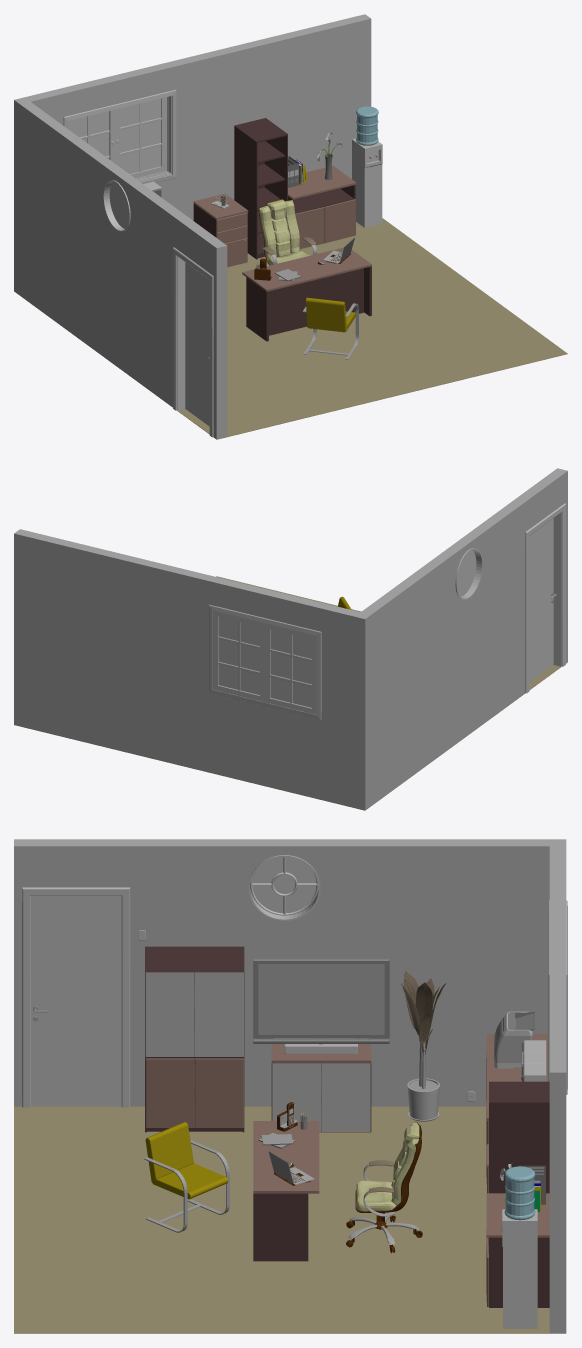
The model's file is oficina_texture_demo.glb.
3 views of the same model, one above another, from view 1: azimuth 30°, elevation 25°; view 2: azimuth 150°, elevation 25°; view 3: azimuth 270°, elevation 25° (orthographic). The views are drawn at different scales.
Visible parts, largest first — view 1: PISOTETO_FACE_SUPERIOR_MOVIMENTACAO4ad1954b-e311-4037-b98f-1, PAREDE_FACE_PERFIL_MOVIMENTACAO_INDICEFORMA_4_INDICEFORMAPRO, PAREDE_FACE_PERFIL_MOVIMENTACAO_INDICEFORMA_1_INDICEFORMAPRO, PAREDE_FACE_SUPERIOR_MOVIMENTACAO69776a52-0825-4644-a44f-b7d, DEC_PORTA5ea3ce00-0662-4a81-8ba5-53329674622b, CORPOdae9b4f2-3f80-4a66-98c5-21ba05ef66f8, DEC_MARCO_0171cec2b1-63f3-4fb8-95fc-b9d9862c68b1, DEC_VIDROf78a38c9-9b3d-4635-9621-0a289eff948e, DEC_CINZA_01440f10e3-d85f-4a71-8285-29965bc1b516, CORPOc64fef60-d20a-477e-b367-b777fd6b8aeb, PAREDE_FACE_PERFIL_MOVIMENTACAO_INDICEFORMA_5_INDICEFORMAPRO, DEC_ESTOFADOc971b86e-ae6b-43a1-84bd-42a5c63bbadd (+17 smaller); view 2: PAREDE_FACE_PERFIL_MOVIMENTACAO_INDICEFORMA_3_INDICEFORMAPRO, PAREDE_FACE_PERFIL_MOVIMENTACAO_INDICEFORMA_4_INDICEFORMAPRO, PAREDE_FACE_SUPERIOR_MOVIMENTACAO69776a52-0825-4644-a44f-b7d, DEC_PORTA5ea3ce00-0662-4a81-8ba5-53329674622b, DEC_MARCO_0171cec2b1-63f3-4fb8-95fc-b9d9862c68b1, DEC_VIDROf78a38c9-9b3d-4635-9621-0a289eff948e, DEC_VIDROd278d250-c2b4-4f9d-a99a-6a36dab335d8, DEC_MARCOc073c740-e683-4331-98de-71513cd41999, DEC_JANELA6d954a3f-e4d8-4db8-b1b7-78338a984b4a, DEC_JANELA4cbee992-8b70-4940-a0eb-445095871d6e, DEC_JANELA5419a601-4b12-43c9-a0ac-7e7ecee4f430, DEC_VIDROf393e163-3856-43d2-9843-d78d4505881d (+1 smaller); view 3: PISOTETO_FACE_SUPERIOR_MOVIMENTACAO4ad1954b-e311-4037-b98f-1, PAREDE_FACE_PERFIL_MOVIMENTACAO_INDICEFORMA_0_INDICEFORMAPRO, DEC_PORTA5ea3ce00-0662-4a81-8ba5-53329674622b, TELAaefe9cf8-7f0d-4eb2-b667-cc798f8f956b, PAREDE_FACE_SUPERIOR_MOVIMENTACAO69776a52-0825-4644-a44f-b7d, DEC_MARCO_0171cec2b1-63f3-4fb8-95fc-b9d9862c68b1, PAREDE_FACE_PERFIL_MOVIMENTACAO_INDICEFORMA_2_INDICEFORMAPRO, CORPO98844794-af53-4340-b489-854348b4802e, VIDRO09dd5c68-fa25-41a0-9920-cfe54b6d727b, VIDROcffc5dce-b69c-4f66-9eb3-7e26157da1fd, DEC_CINZA_01440f10e3-d85f-4a71-8285-29965bc1b516, ESTRUTURA730ba1c8-2efa-47fc-939d-753f0b261ec0 (+24 smaller).
Boxes of the visible parts, x1,y1,x2,y2 form: PISOTETO_FACE_SUPERIOR_MOVIMENTACAO4ad1954b-e311-4037-b98f-1: (178, 218, 567, 436); PAREDE_FACE_PERFIL_MOVIMENTACAO_INDICEFORMA_4_INDICEFORMAPRO: (14, 100, 216, 438); PAREDE_FACE_PERFIL_MOVIMENTACAO_INDICEFORMA_1_INDICEFORMAPRO: (31, 19, 371, 220); PAREDE_FACE_SUPERIOR_MOVIMENTACAO69776a52-0825-4644-a44f-b7d: (14, 14, 370, 247); DEC_PORTA5ea3ce00-0662-4a81-8ba5-53329674622b: (185, 262, 209, 426); CORPOdae9b4f2-3f80-4a66-98c5-21ba05ef66f8: (269, 268, 363, 335); DEC_MARCO_0171cec2b1-63f3-4fb8-95fc-b9d9862c68b1: (173, 247, 213, 437); DEC_VIDROf78a38c9-9b3d-4635-9621-0a289eff948e: (120, 98, 161, 173); DEC_CINZA_01440f10e3-d85f-4a71-8285-29965bc1b516: (352, 138, 382, 227); CORPOc64fef60-d20a-477e-b367-b777fd6b8aeb: (234, 125, 257, 259); PAREDE_FACE_PERFIL_MOVIMENTACAO_INDICEFORMA_5_INDICEFORMAPRO: (216, 246, 227, 439); DEC_ESTOFADOc971b86e-ae6b-43a1-84bd-42a5c63bbadd: (259, 199, 309, 265); PAREDE_FACE_PERFIL_MOVIMENTACAO_INDICEFORMA_3_INDICEFORMAPRO: (14, 533, 365, 810); PAREDE_FACE_PERFIL_MOVIMENTACAO_INDICEFORMA_4_INDICEFORMAPRO: (365, 471, 567, 809); PAREDE_FACE_SUPERIOR_MOVIMENTACAO69776a52-0825-4644-a44f-b7d: (14, 468, 567, 618); DEC_PORTA5ea3ce00-0662-4a81-8ba5-53329674622b: (529, 518, 553, 681); DEC_MARCO_0171cec2b1-63f3-4fb8-95fc-b9d9862c68b1: (525, 503, 565, 693); DEC_VIDROf78a38c9-9b3d-4635-9621-0a289eff948e: (218, 617, 259, 695); DEC_VIDROd278d250-c2b4-4f9d-a99a-6a36dab335d8: (270, 629, 311, 707); DEC_MARCOc073c740-e683-4331-98de-71513cd41999: (209, 604, 321, 719); DEC_JANELA6d954a3f-e4d8-4db8-b1b7-78338a984b4a: (265, 623, 316, 714); DEC_JANELA4cbee992-8b70-4940-a0eb-445095871d6e: (213, 610, 264, 702); DEC_JANELA5419a601-4b12-43c9-a0ac-7e7ecee4f430: (455, 548, 482, 599); DEC_VIDROf393e163-3856-43d2-9843-d78d4505881d: (457, 550, 475, 595); PISOTETO_FACE_SUPERIOR_MOVIMENTACAO4ad1954b-e311-4037-b98f-1: (14, 1106, 549, 1332); PAREDE_FACE_PERFIL_MOVIMENTACAO_INDICEFORMA_0_INDICEFORMAPRO: (14, 846, 549, 1106); DEC_PORTA5ea3ce00-0662-4a81-8ba5-53329674622b: (32, 896, 120, 1106); TELAaefe9cf8-7f0d-4eb2-b667-cc798f8f956b: (258, 964, 384, 1034); PAREDE_FACE_SUPERIOR_MOVIMENTACAO69776a52-0825-4644-a44f-b7d: (14, 839, 566, 1072); DEC_MARCO_0171cec2b1-63f3-4fb8-95fc-b9d9862c68b1: (22, 887, 130, 1107); PAREDE_FACE_PERFIL_MOVIMENTACAO_INDICEFORMA_2_INDICEFORMAPRO: (549, 1072, 566, 1332); CORPO98844794-af53-4340-b489-854348b4802e: (489, 1102, 549, 1193); VIDRO09dd5c68-fa25-41a0-9920-cfe54b6d727b: (145, 972, 194, 1056); VIDROcffc5dce-b69c-4f66-9eb3-7e26157da1fd: (195, 972, 243, 1056); DEC_CINZA_01440f10e3-d85f-4a71-8285-29965bc1b516: (502, 1209, 537, 1328); ESTRUTURA730ba1c8-2efa-47fc-939d-753f0b261ec0: (253, 1193, 308, 1261).
Size of the model in its own units: 6.05 by 3.16 by 6.04.
